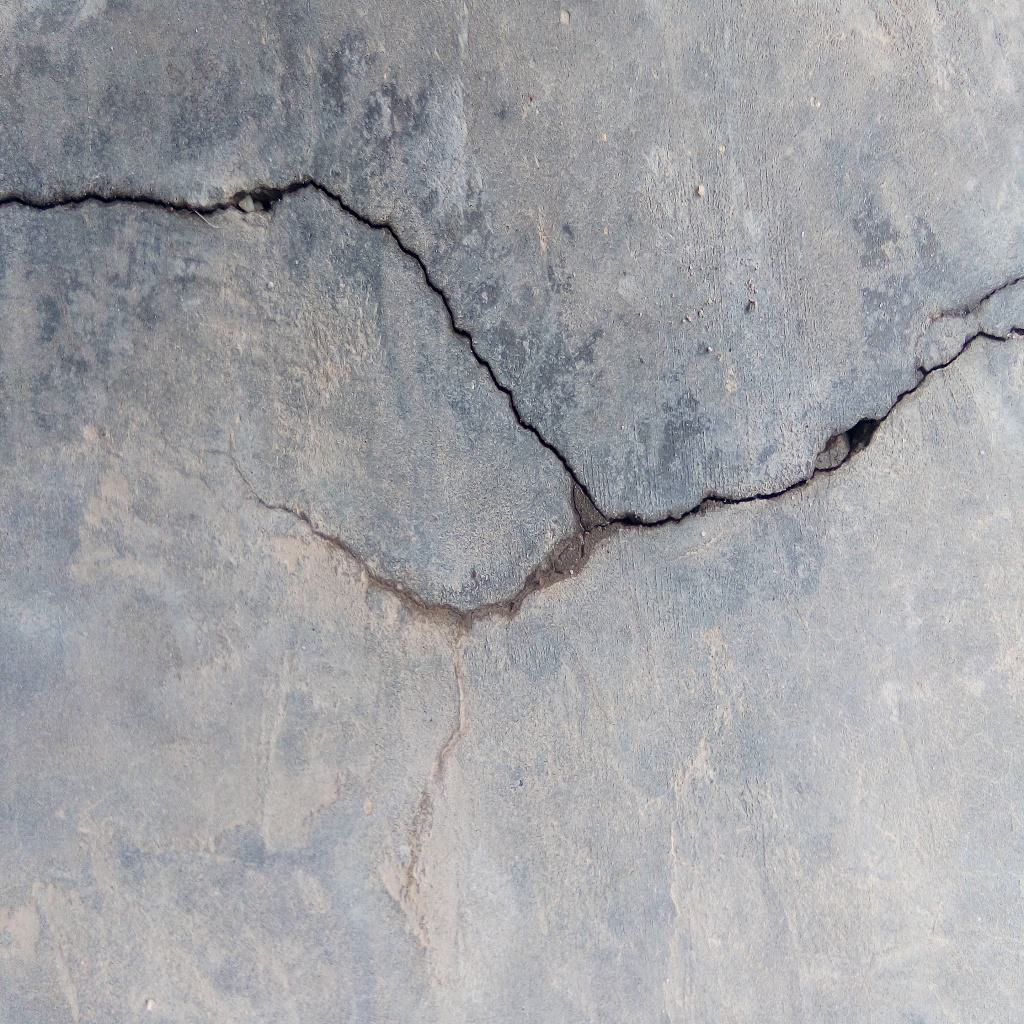Crack: (1, 175, 1024, 530), (203, 448, 615, 618)
